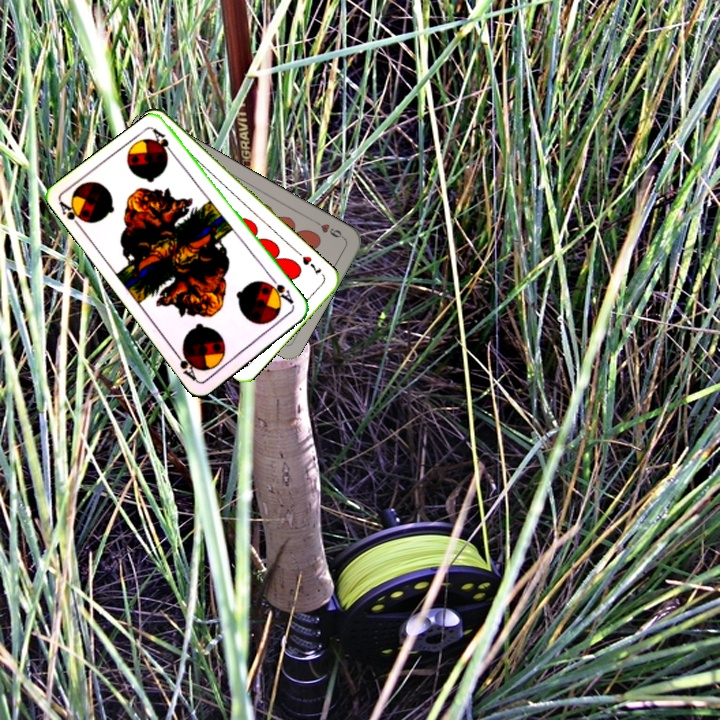H7: (298, 252, 324, 278)
H9: (310, 216, 347, 242)
SA: (55, 195, 91, 232), (264, 274, 297, 310)
